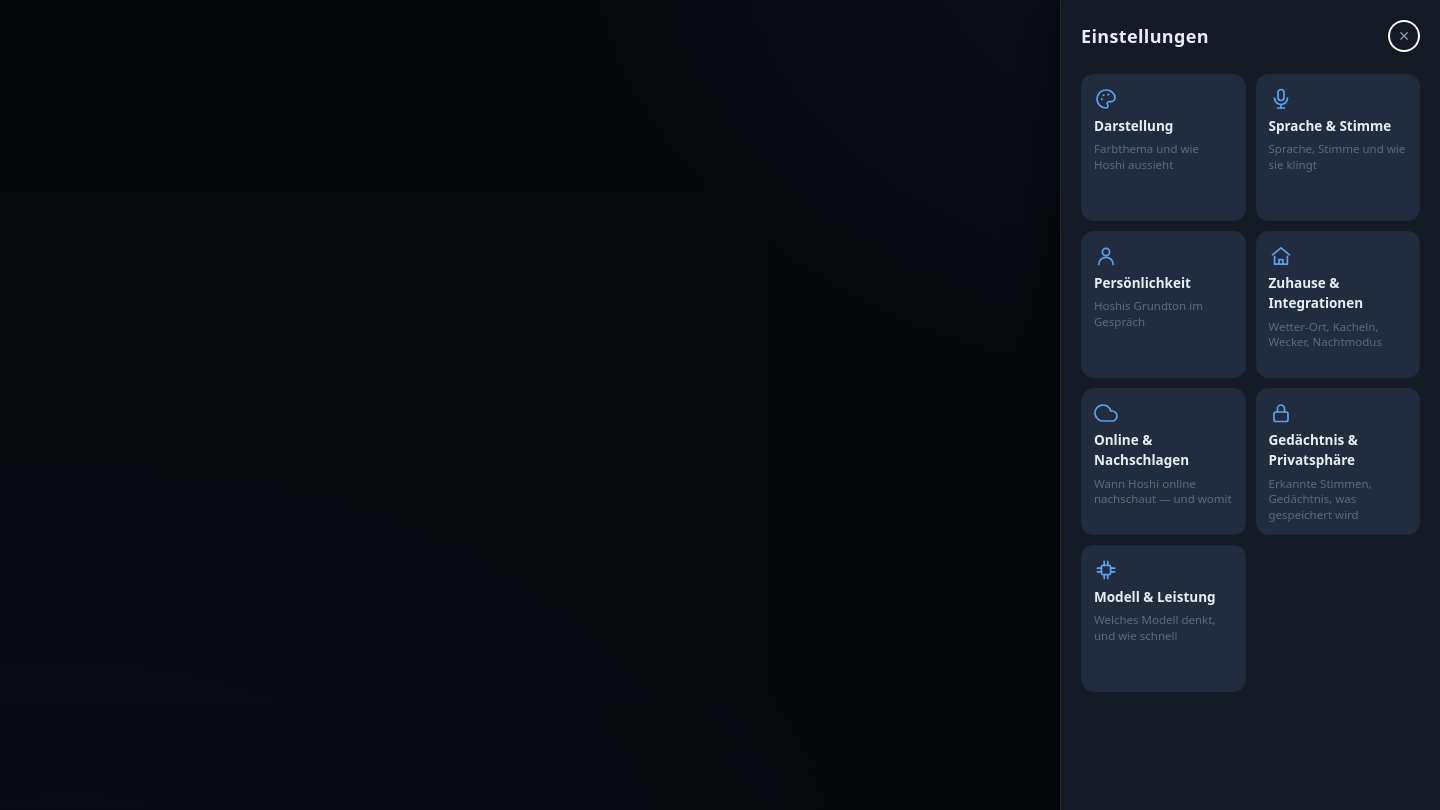
it: SettingsPanel — Schalen-Navigation Übersicht ↔ Kategorie › INNERHALB einer Kategorie gibt es keine Chip-Reiterleiste mehr — nur „‹ Einstellungen" (15.08)
Click the button "Persönlichkeit Hoshis Grundton im Gespräch" at (1163, 304), box [1081,231,1246,378]
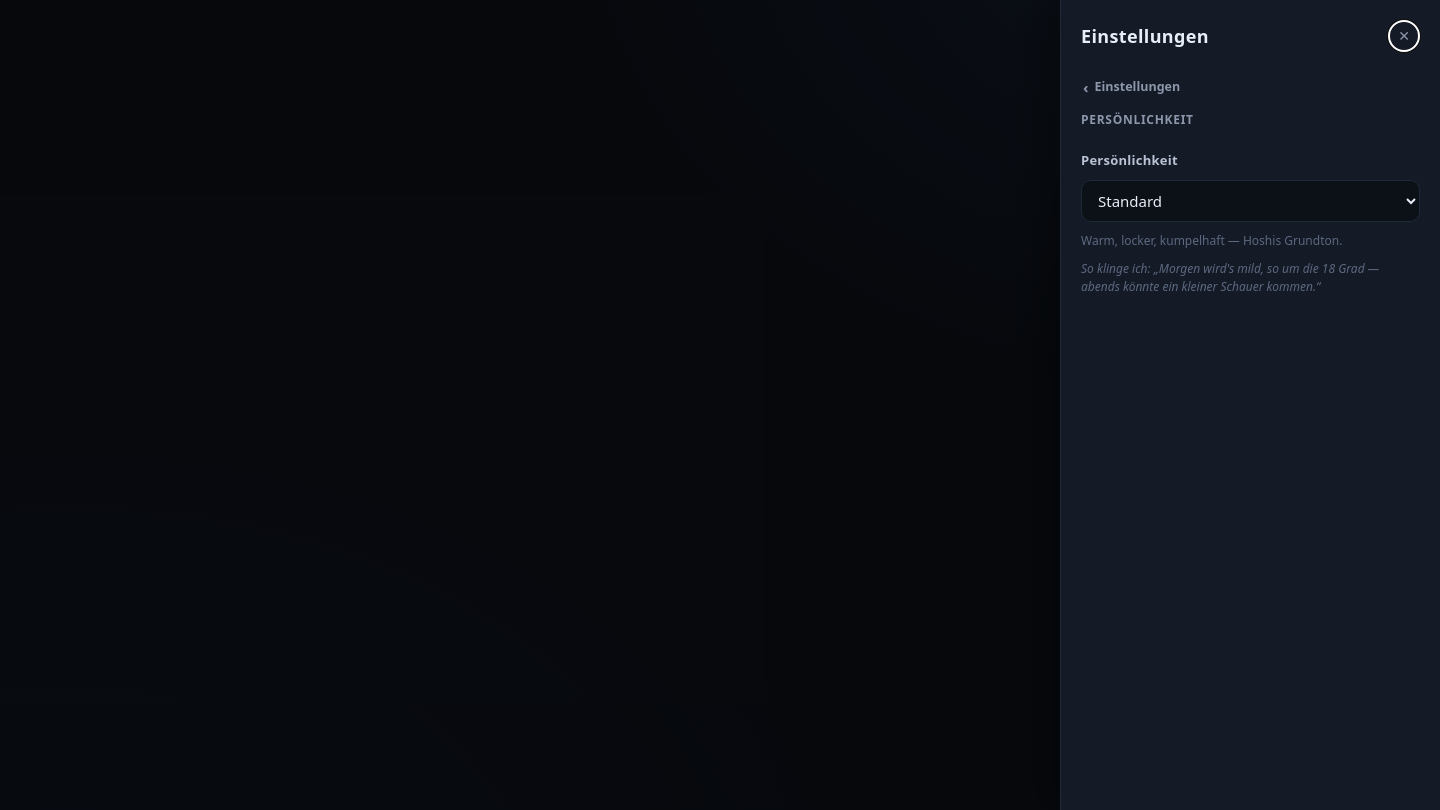
Expected: the button with class "settings__back" is shown, [1081,74,1182,101]
